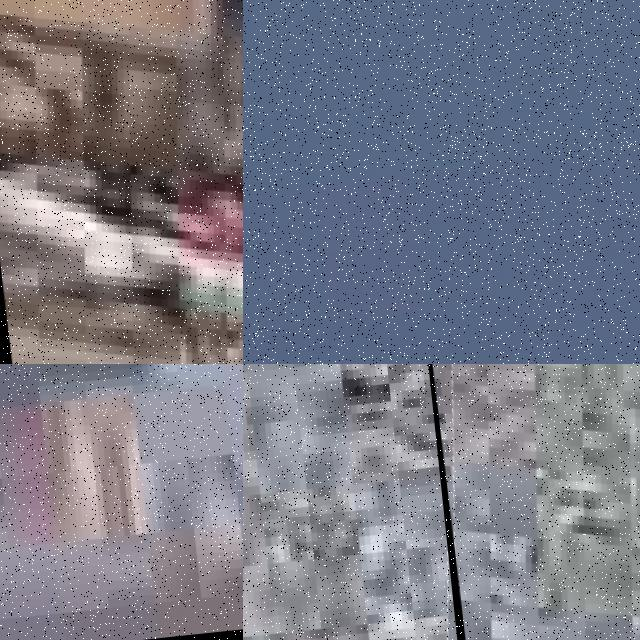drone: (0, 0, 243, 364), (398, 364, 640, 640)
